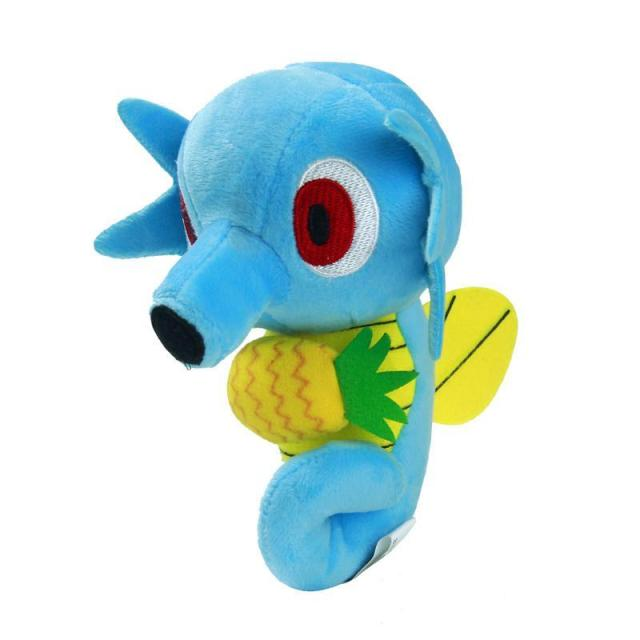Horsea: (95, 52, 464, 594)
